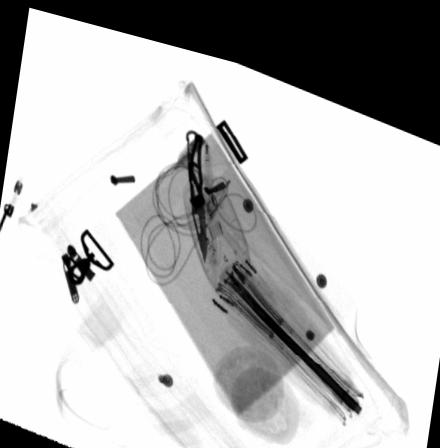Knife: (185, 119, 208, 255)
